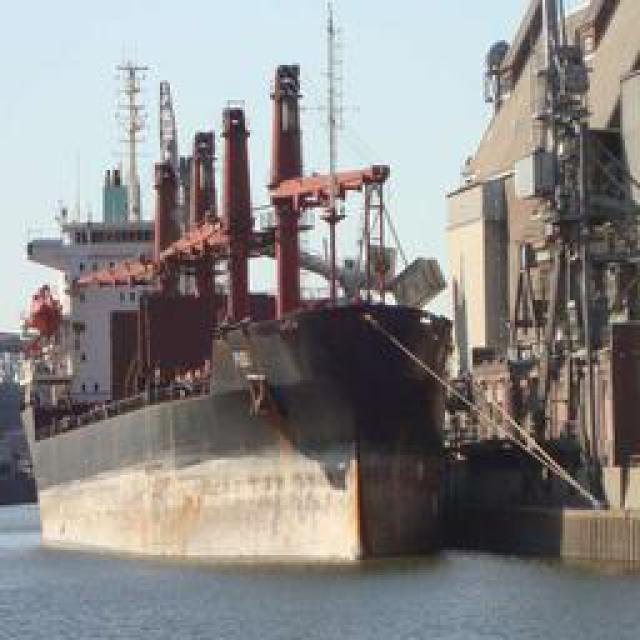Ship: (11, 66, 486, 582)
